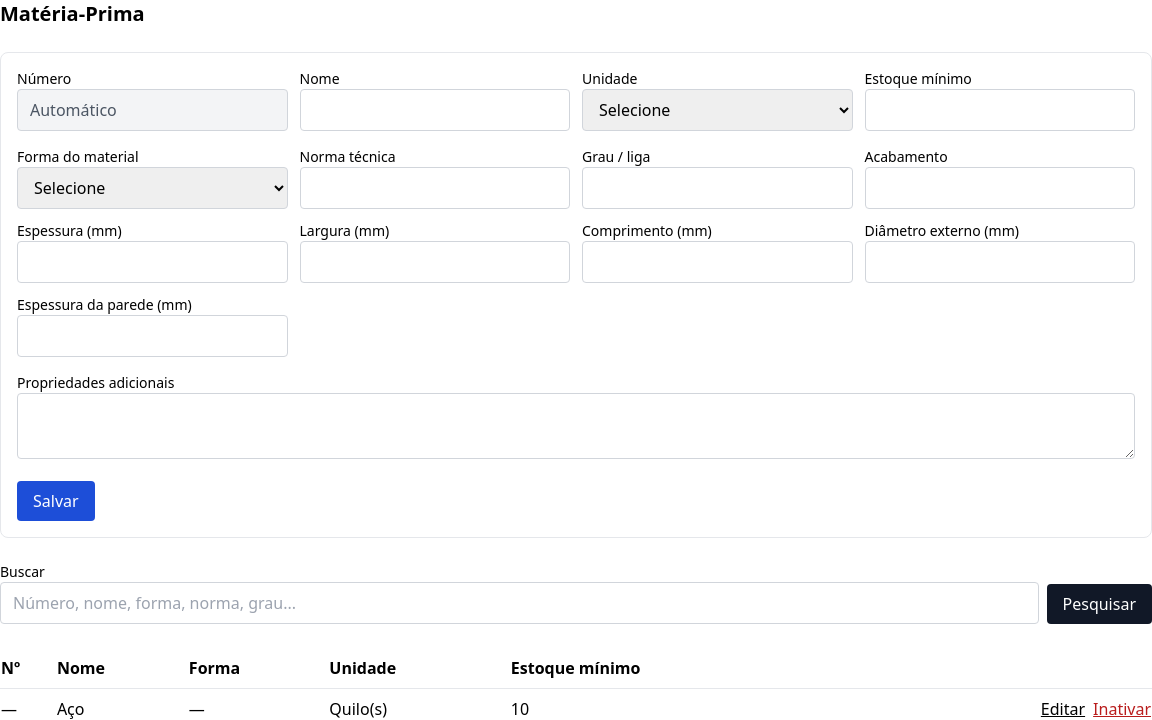
Test case: MateriaisPage › cria material e atualiza a lista
Step 1. Type "Cobre" into the field labelled "Nome" → (435, 110), box [300, 89, 570, 131]
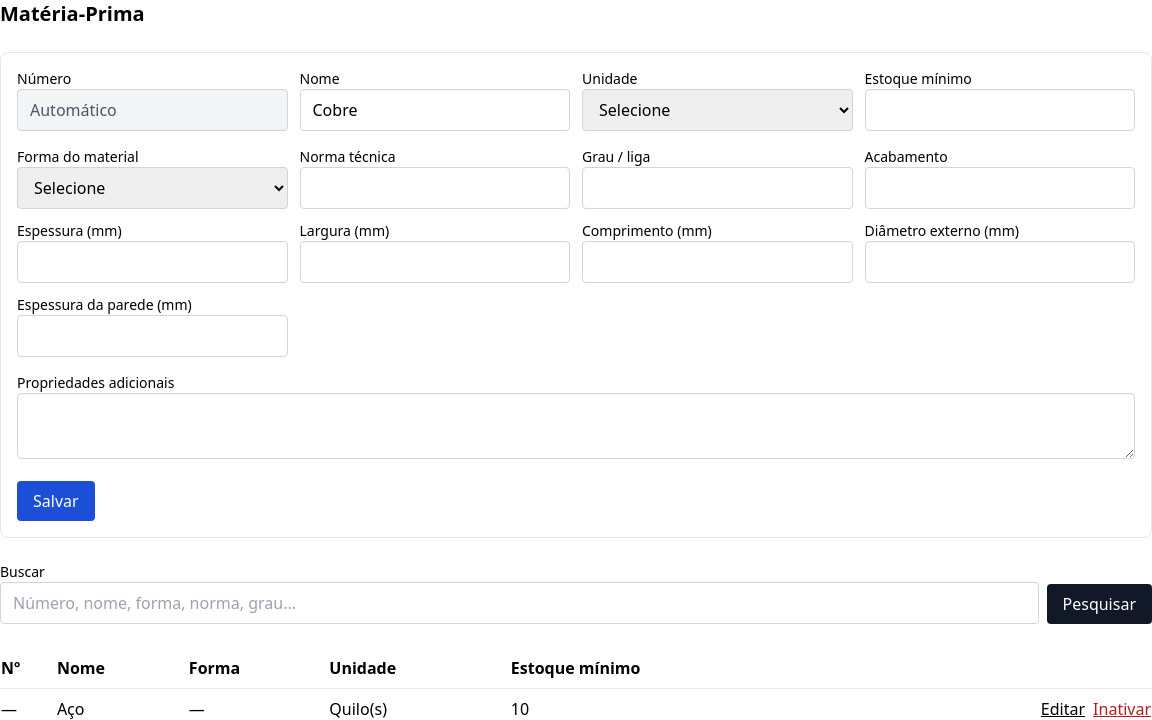
Step 2. Select "Quilo(s)" in the dropdown labelled "Unidade" → (717, 110), box [582, 89, 852, 131]
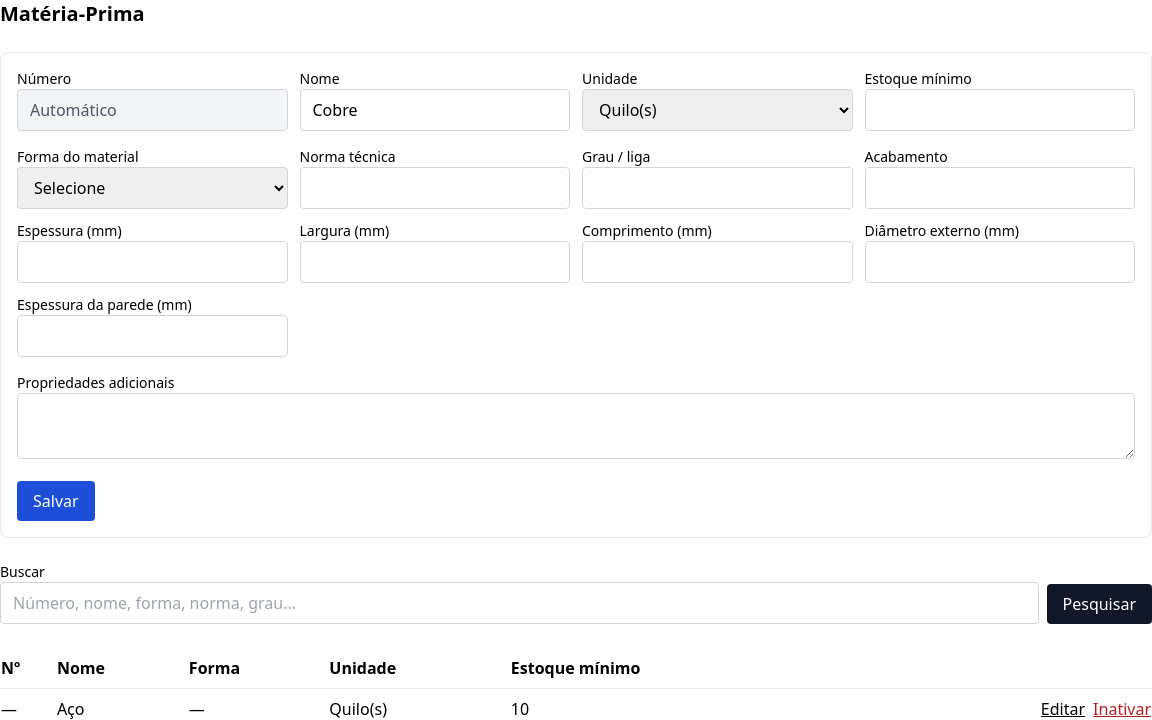
Step 3. Type "3" into the number field labelled "Estoque mínimo" → (1000, 110), box [864, 89, 1135, 131]
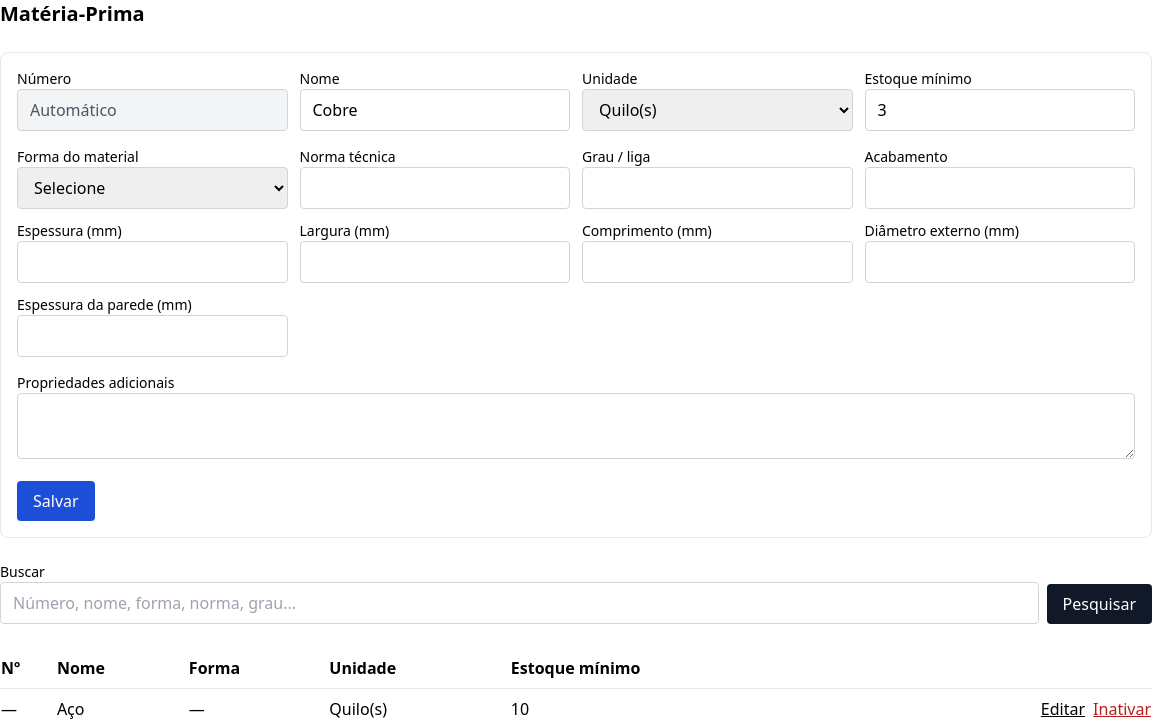
Step 4. Click the button "Salvar" → (56, 501), box [17, 481, 95, 521]
(page scrolled)
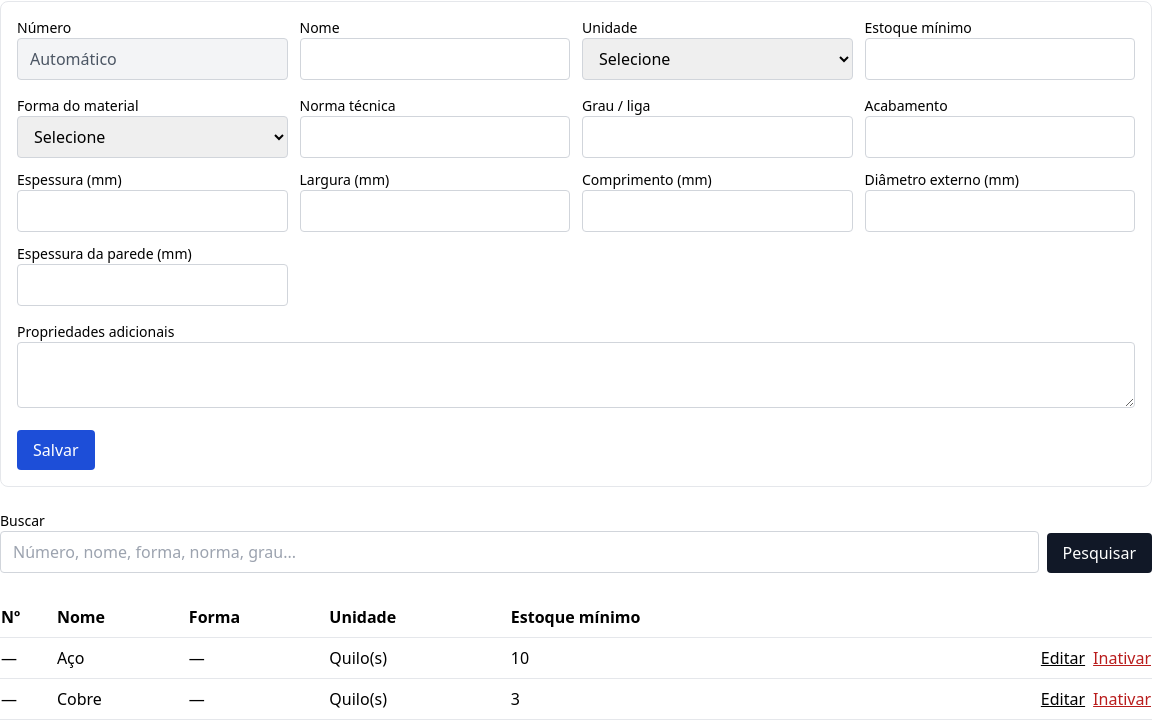
Check: the text "Cobre" is shown, box [56, 678, 188, 719]
